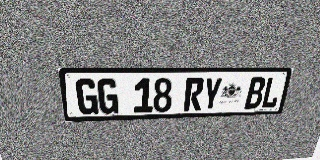1: (134, 78, 153, 113)
8: (153, 78, 173, 112)
B: (244, 77, 267, 109)
G: (75, 78, 99, 115), (97, 78, 119, 114)
L: (260, 77, 283, 109)
R: (184, 77, 205, 111)
Y: (201, 77, 223, 111)
